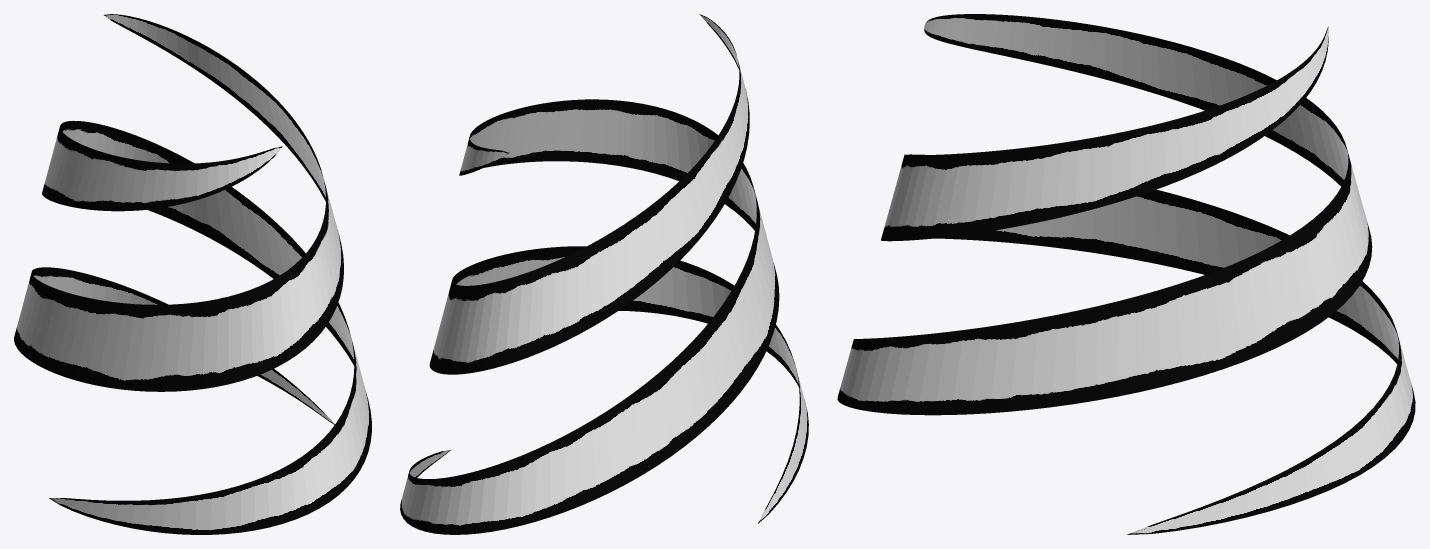
The model's file is AuraHelix.fbx.
3 views of the same model, side by side, from view 1: azimuth 30°, elevation 25°; view 2: azimuth 150°, elevation 25°; view 3: azimuth 270°, elevation 25° (orthographic). The views are drawn at different scales.
Visible parts, largest first — view 1: AuraHelix; view 2: AuraHelix; view 3: AuraHelix.
Boxes of the visible parts, x1,y1,x2,y2 form: AuraHelix: (14,14,371,534); AuraHelix: (400,14,808,534); AuraHelix: (837,14,1415,534).
Size of the model in its own units: 460 by 580 by 707.
1 material, 1 textured.
